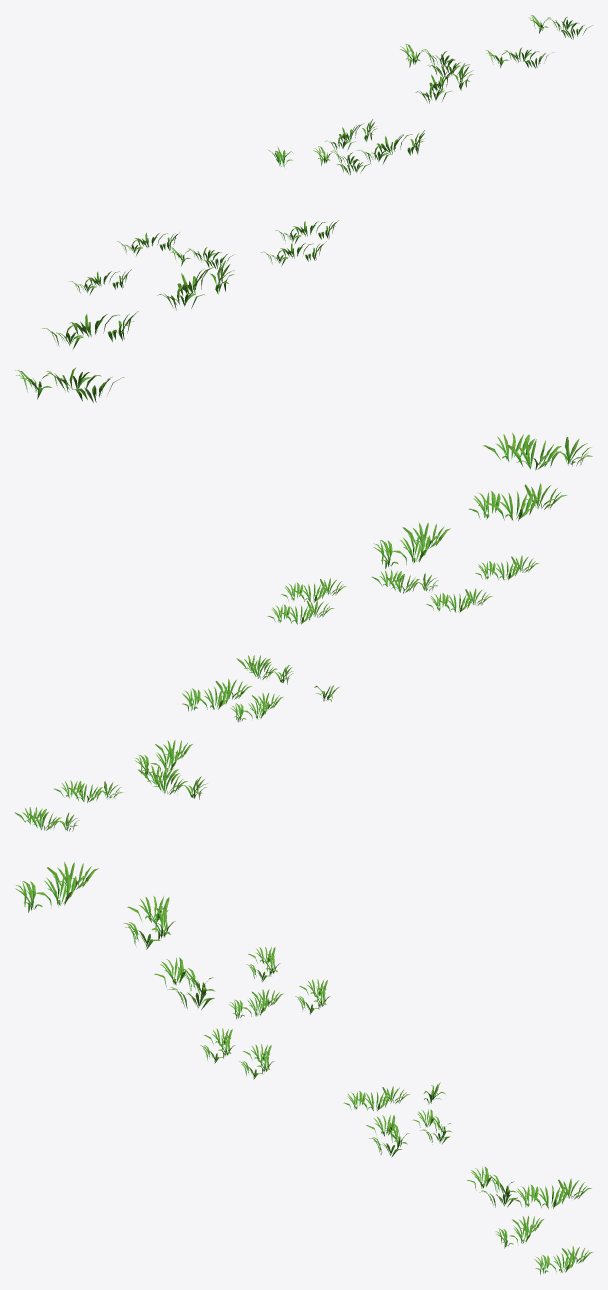
File: cao_fenzu06.fbx
3 views of the same model, one above another, from view 1: azimuth 30°, elevation 25°; view 2: azimuth 210°, elevation 25°; view 3: azimuth 270°, elevation 25° (orthographic).
Parts seen in each view (by area): view 1: cao_07__314_; view 2: cao_07__314_; view 3: cao_07__314_.
Boxes of the visible parts, left/top/right/bottom form: cao_07__314_: left=15, top=15, right=592, bottom=402; cao_07__314_: left=14, top=433, right=592, bottom=831; cao_07__314_: left=15, top=862, right=592, bottom=1274.
Size of the model in its own units: 3429 by 130 by 2113.
